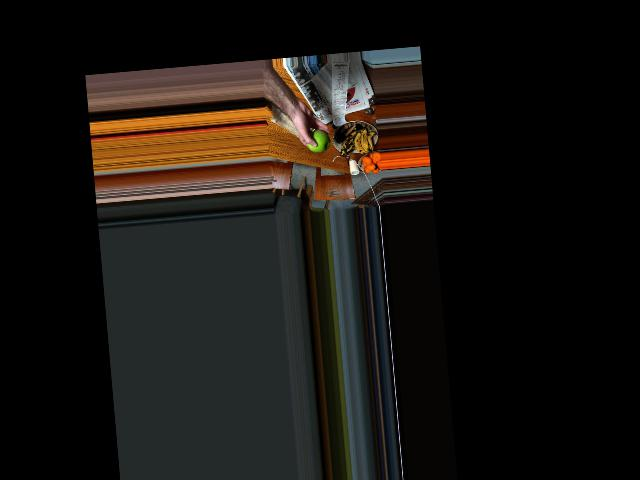apple: (303, 124, 331, 154)
